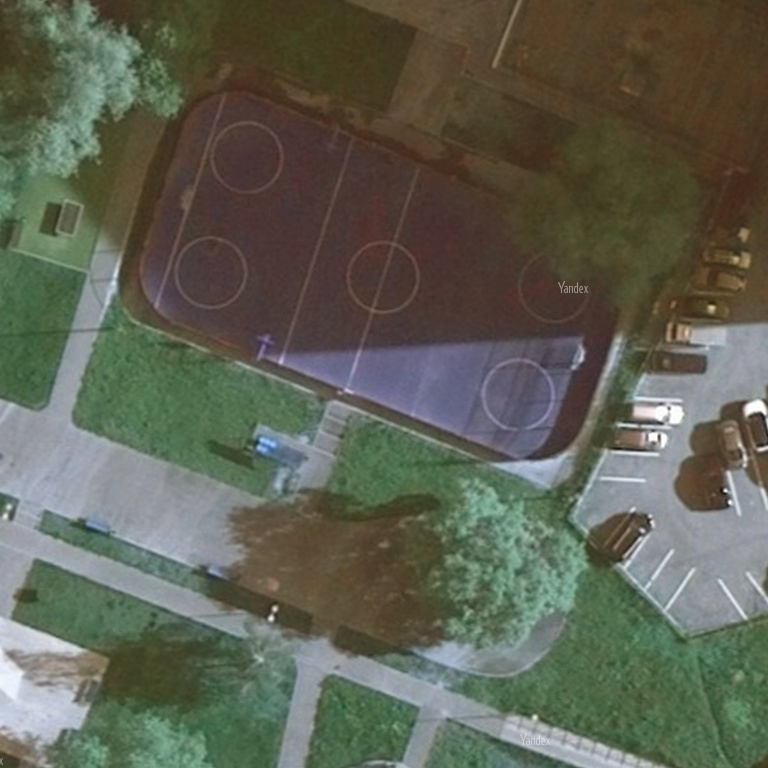basket_court: (216, 110, 394, 373)
